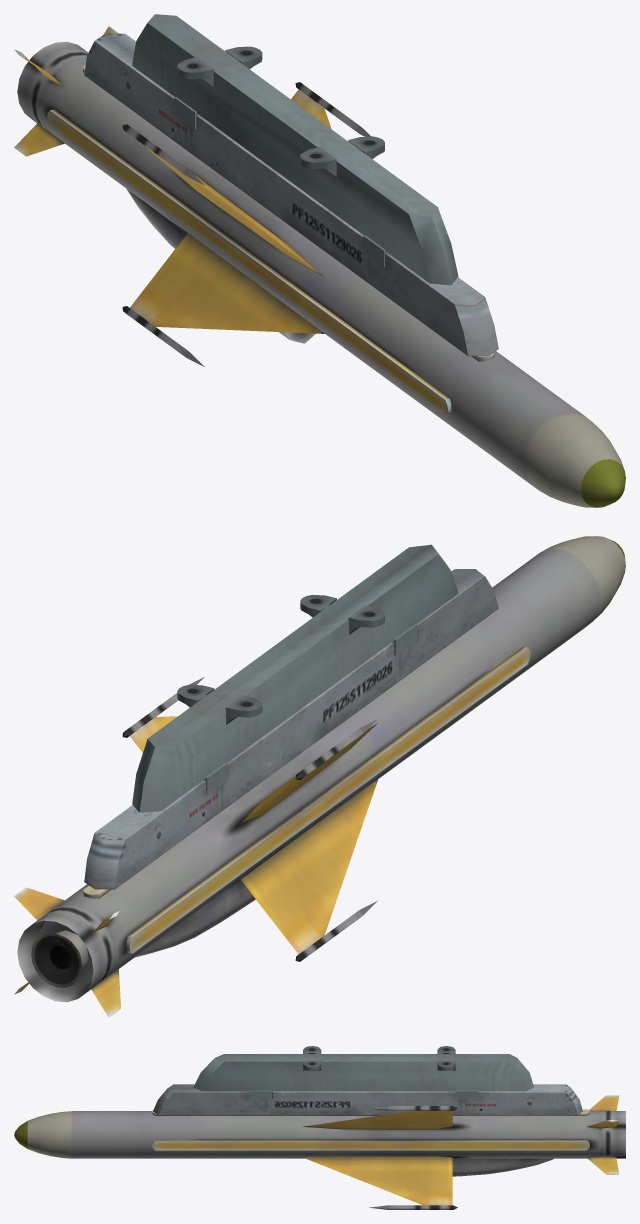
File: weapon_mount_kd88a.obj
The picture shows the model from 3 angles, top to bottom: view 1: azimuth 30°, elevation 25°; view 2: azimuth 150°, elevation 25°; view 3: azimuth 270°, elevation 25°; orthographic projection. The views are drawn at different scales.
Visible parts, largest first — view 1: Object004, vehicle#twin_pylon_001_169_2; view 2: Object004, vehicle#twin_pylon_001_169_2; view 3: Object004, vehicle#twin_pylon_001_169_2.
Part boxes in pixels (bbox=[...]): Object004: bbox=[14, 26, 625, 507]; vehicle#twin_pylon_001_169_2: bbox=[84, 14, 498, 356]; Object004: bbox=[14, 536, 625, 1017]; vehicle#twin_pylon_001_169_2: bbox=[84, 544, 498, 889]; Object004: bbox=[14, 1095, 625, 1209]; vehicle#twin_pylon_001_169_2: bbox=[153, 1046, 582, 1115].
Bounding box in the file's own units: 1.11 × 1.39 × 5.94.
